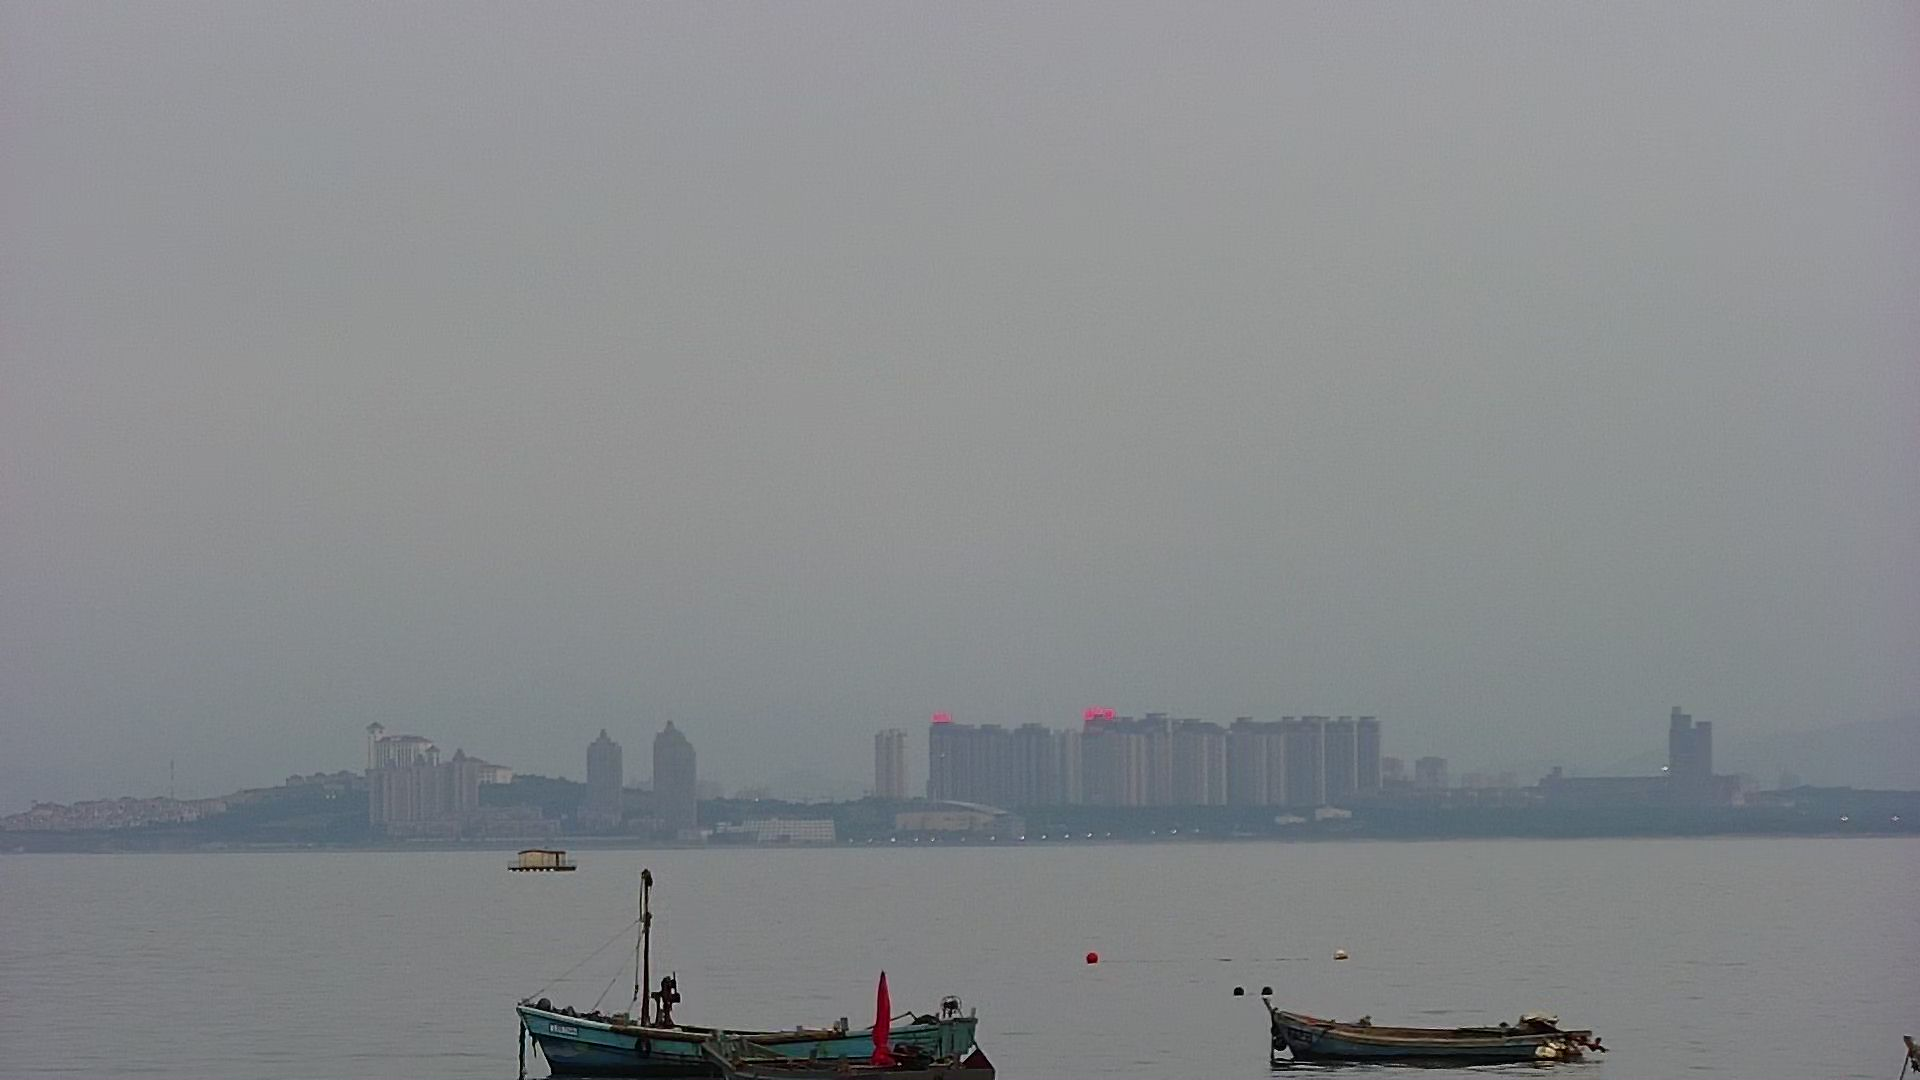ball: (1079, 942, 1106, 971), (1331, 943, 1352, 971)
boat: (498, 977, 1011, 1080), (1246, 973, 1626, 1080)
platform: (505, 833, 588, 884)
